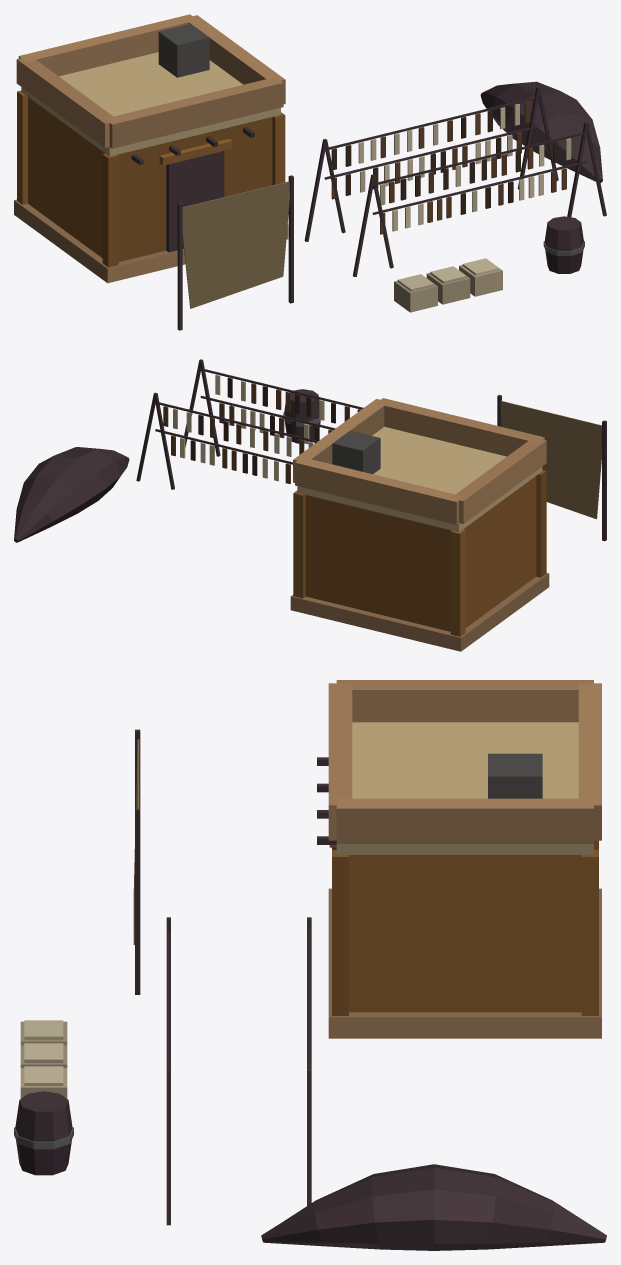
File: walk_hive_fishery.glb
3 renders of one model, top to bottom at view 1: azimuth 30°, elevation 25°; view 2: azimuth 150°, elevation 25°; view 3: azimuth 270°, elevation 25°, orthographic. The views are drawn at different scales.
Visible parts, largest first — view 1: walk_hive_fishery, walk_hive_fishery_roof; view 2: walk_hive_fishery, walk_hive_fishery_roof; view 3: walk_hive_fishery, walk_hive_fishery_roof.
Boxes of the visible parts, bbox=[...] form: walk_hive_fishery: bbox=[14, 81, 606, 330]; walk_hive_fishery_roof: bbox=[16, 14, 285, 156]; walk_hive_fishery: bbox=[14, 359, 606, 651]; walk_hive_fishery_roof: bbox=[293, 398, 546, 531]; walk_hive_fishery: bbox=[14, 729, 606, 1250]; walk_hive_fishery_roof: bbox=[328, 680, 601, 854].
Size of what is drawn, in the model's own units: 10.9 by 3.47 by 7.6.
2 materials, 2 textured.
